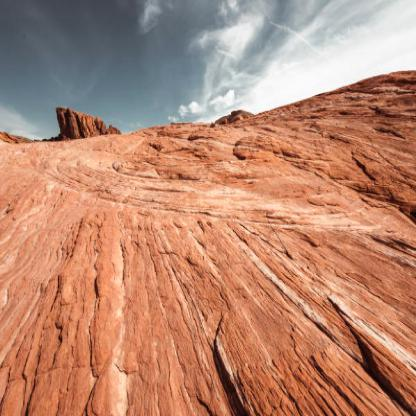Sedimentary_Sandstone: (53, 101, 122, 141)
